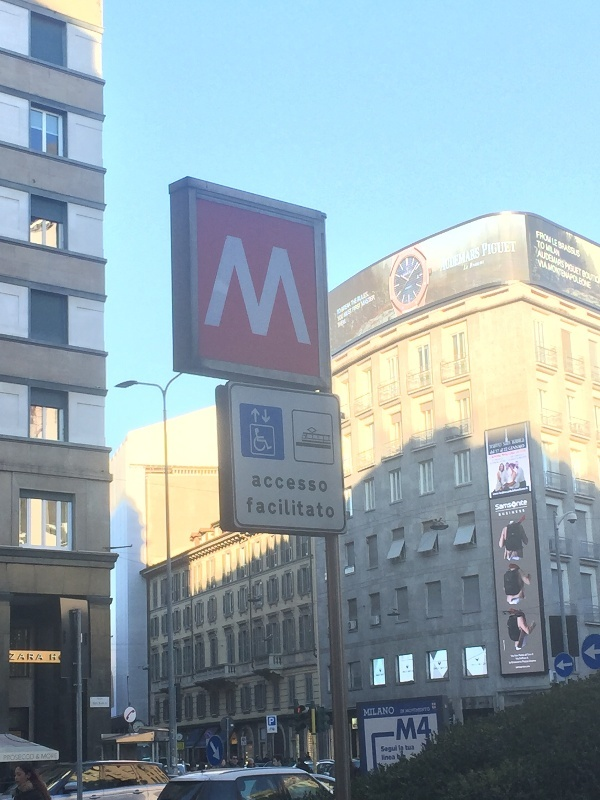text: (241, 234, 256, 348), (257, 234, 272, 348), (273, 234, 288, 348), (289, 234, 304, 348), (226, 234, 240, 348), (305, 234, 313, 348), (465, 245, 481, 275), (577, 262, 593, 292), (449, 245, 464, 275), (561, 262, 576, 292), (417, 716, 433, 742), (401, 716, 416, 742), (257, 496, 272, 520), (273, 496, 288, 520), (289, 496, 304, 520), (305, 496, 320, 520), (548, 262, 560, 292), (321, 496, 335, 520), (545, 248, 560, 270), (353, 293, 368, 314), (257, 474, 272, 494), (273, 474, 288, 494), (289, 474, 304, 494), (305, 474, 320, 494), (561, 240, 576, 260), (481, 240, 496, 259), (497, 240, 512, 259), (337, 299, 352, 317), (353, 290, 369, 306), (337, 307, 352, 324), (246, 496, 256, 520), (497, 441, 512, 456), (546, 243, 560, 259), (564, 260, 576, 278), (369, 705, 384, 719), (441, 245, 448, 275), (513, 441, 527, 456), (337, 317, 352, 330), (497, 499, 512, 512), (513, 499, 528, 512), (582, 269, 592, 287), (385, 744, 398, 756), (385, 705, 396, 719), (498, 508, 512, 519), (369, 293, 376, 314), (513, 508, 526, 519), (321, 474, 328, 494), (17, 652, 32, 661), (513, 437, 526, 447), (417, 706, 431, 715), (551, 236, 560, 250), (593, 269, 600, 287), (536, 230, 544, 245), (470, 260, 480, 271), (539, 248, 544, 270), (385, 754, 397, 763), (545, 230, 552, 245), (33, 652, 44, 661), (51, 654, 64, 661), (406, 706, 416, 715), (577, 260, 582, 278), (490, 441, 496, 456), (405, 744, 416, 752), (561, 248, 565, 270), (537, 239, 544, 251), (252, 474, 256, 494), (577, 240, 581, 260), (397, 716, 400, 742), (538, 258, 544, 271), (513, 240, 517, 259), (503, 440, 512, 448), (363, 705, 368, 719), (489, 441, 496, 451), (545, 258, 549, 271), (497, 441, 502, 451), (11, 652, 16, 661), (481, 260, 485, 271), (465, 263, 469, 273), (558, 240, 560, 260), (381, 744, 384, 756), (401, 708, 405, 716), (269, 718, 272, 727), (401, 744, 404, 753), (397, 753, 400, 762), (401, 753, 404, 762), (494, 499, 496, 512), (273, 718, 275, 727), (382, 754, 384, 763), (351, 290, 352, 306), (561, 243, 562, 259), (545, 239, 546, 251), (511, 437, 512, 447), (399, 744, 400, 753)
